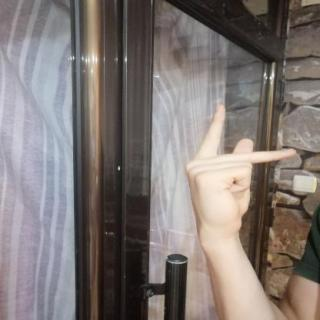DHAA: (173, 97, 305, 244)
